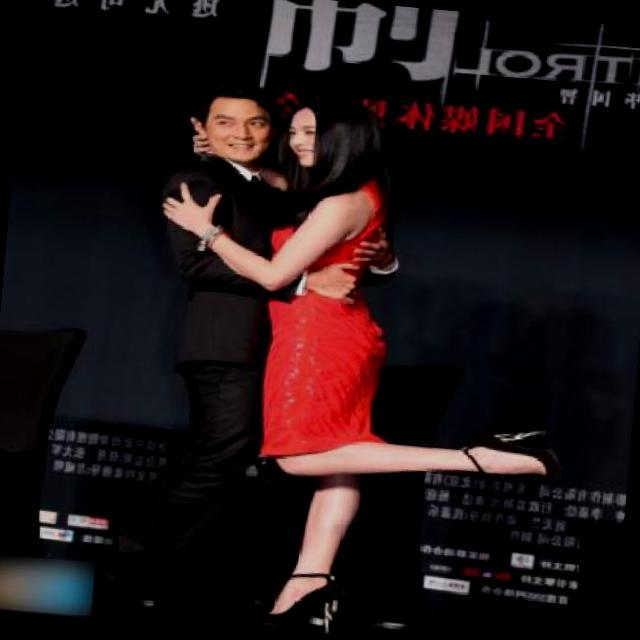Person: (229, 75, 468, 640), (62, 56, 294, 624)
